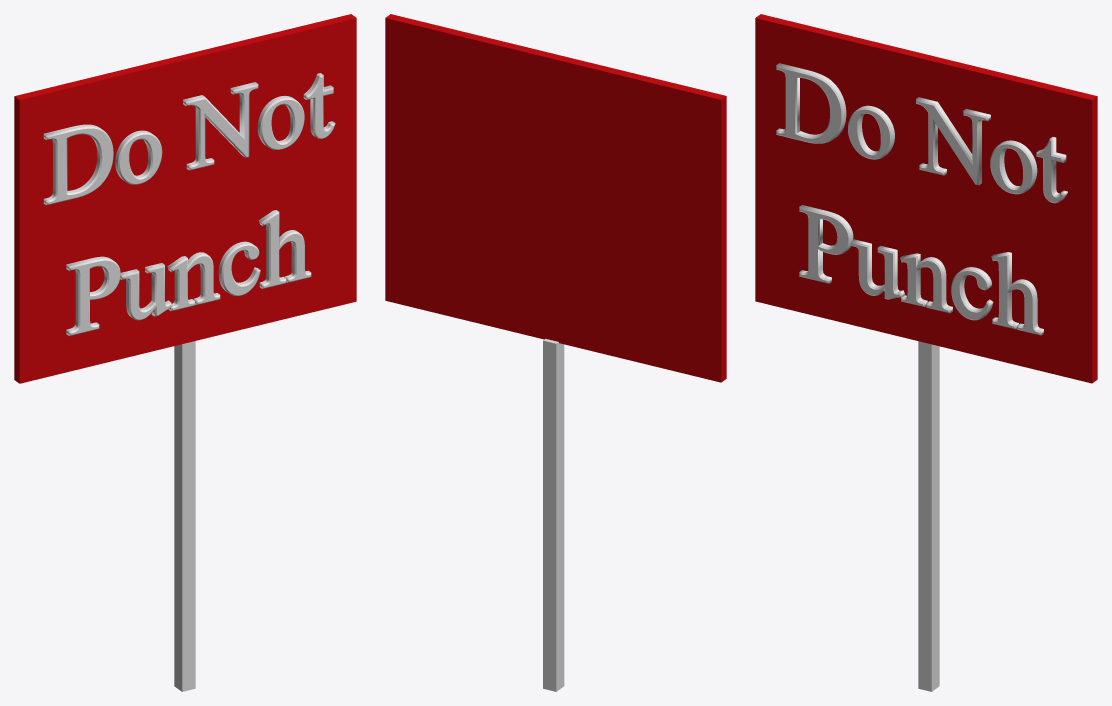
The model's file is DontPunchSign.fbx.
3 renders of one model, left to right at view 1: azimuth 30°, elevation 25°; view 2: azimuth 150°, elevation 25°; view 3: azimuth 330°, elevation 25°, orthographic.
Visible parts, largest first — view 1: Sign, Text, Post; view 2: Sign, Post; view 3: Sign, Text, Post.
Boxes of the visible parts, x1,y1,x2,y2 form: Sign: (14, 14, 356, 383); Text: (43, 73, 335, 335); Post: (174, 341, 195, 691); Sign: (385, 14, 726, 382); Post: (543, 338, 564, 691); Sign: (755, 14, 1097, 383); Text: (776, 63, 1067, 335); Post: (918, 341, 939, 691).
Bounding box in the file's own units: 93.71 × 168 × 5.6.
